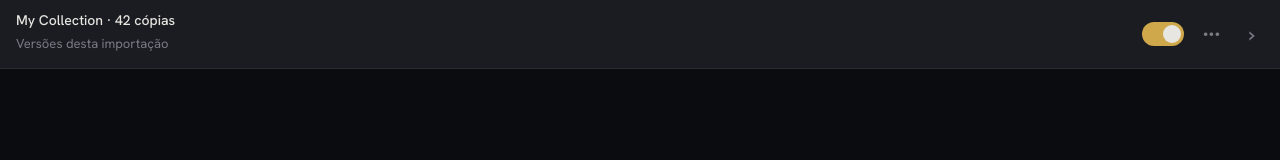
it: CsvSourceRow › inline label edit › shows input when label is clicked
The image size is (1280, 160).
Step 1. Click the button "My Collection" → (60, 21), box left=16, top=12, right=103, bottom=30
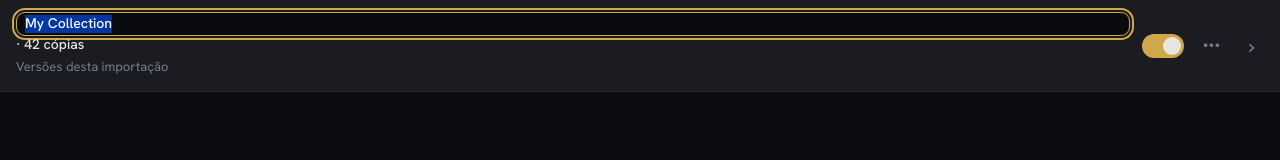
expect the field named "editar nome da fonte" is shown: met, box left=16, top=12, right=1130, bottom=36
